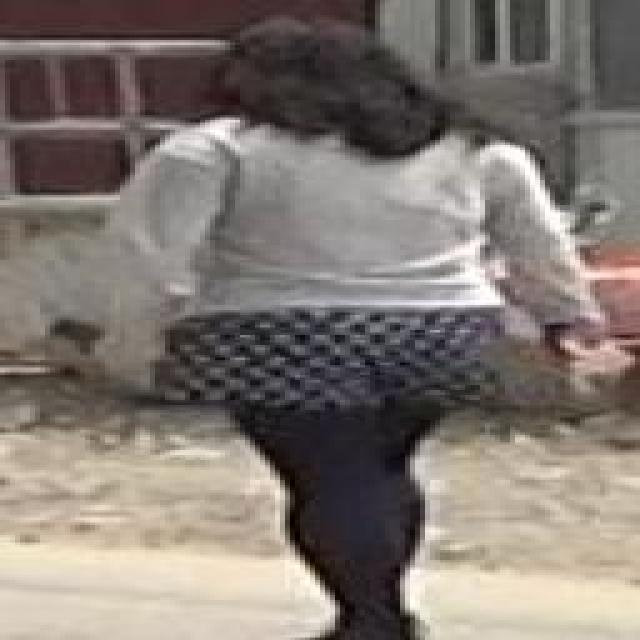adult: (122, 9, 618, 630)
